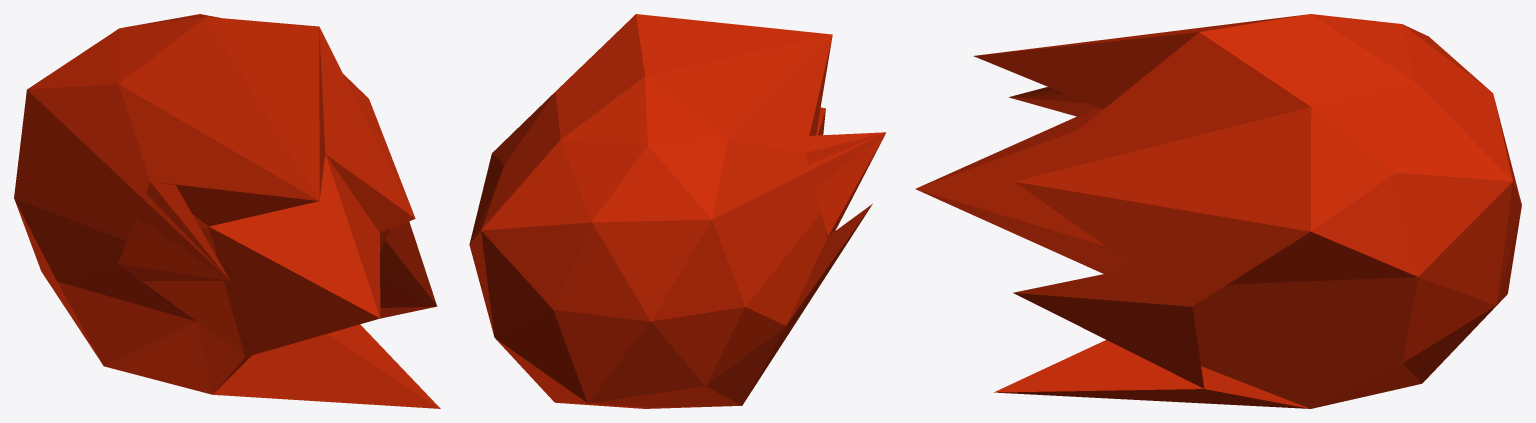
Rendered from Fireball.obj.
3 renders of one model, left to right at view 1: azimuth 30°, elevation 25°; view 2: azimuth 150°, elevation 25°; view 3: azimuth 270°, elevation 25°, orthographic. The views are drawn at different scales.
Visible parts, largest first — view 1: Icosphere; view 2: Icosphere; view 3: Icosphere.
Part boxes in pixels (bbox=[...]): Icosphere: bbox=[14, 14, 440, 408]; Icosphere: bbox=[469, 14, 886, 408]; Icosphere: bbox=[915, 14, 1521, 408].
Size of the model in its own units: 1.85 by 2.07 by 2.88.
